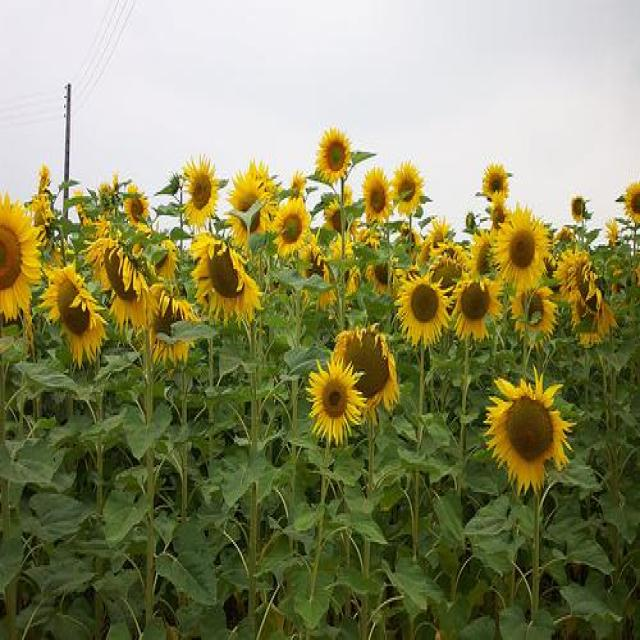sunflower: (483, 367, 576, 494), (41, 261, 109, 370), (82, 239, 160, 334), (189, 234, 263, 328), (331, 326, 399, 414), (0, 192, 44, 324), (305, 356, 366, 444), (492, 201, 549, 288), (394, 273, 454, 350), (226, 169, 274, 245), (451, 277, 503, 342), (151, 293, 197, 366), (508, 278, 558, 345), (181, 154, 218, 226), (300, 244, 336, 311), (273, 191, 310, 255), (571, 296, 615, 348), (314, 128, 353, 183), (130, 237, 177, 281), (568, 256, 602, 314), (551, 247, 586, 301), (392, 159, 424, 217), (361, 165, 391, 223), (324, 188, 356, 235), (468, 229, 496, 276), (121, 184, 149, 229), (481, 161, 511, 200), (430, 256, 466, 281), (369, 262, 397, 294), (31, 193, 53, 230), (623, 182, 640, 222), (428, 217, 451, 245), (488, 201, 509, 229), (402, 225, 422, 254), (430, 244, 466, 260), (356, 224, 378, 250), (343, 265, 357, 294), (291, 170, 308, 192), (606, 219, 619, 247), (610, 270, 626, 292), (570, 195, 584, 219), (557, 228, 575, 242)
